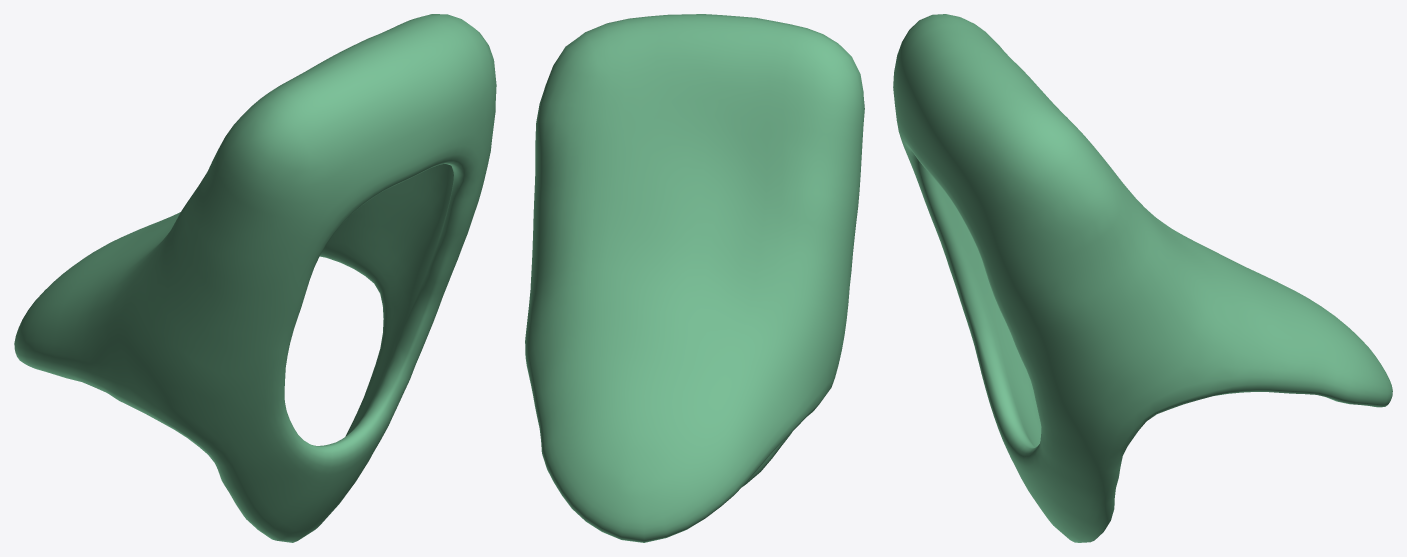
File: BR2_Frame_Classic.001 2.glb
The picture shows the model from 3 angles, left to right: view 1: azimuth 30°, elevation 25°; view 2: azimuth 150°, elevation 25°; view 3: azimuth 270°, elevation 25°; orthographic projection. The views are drawn at different scales.
Visible parts, largest first — view 1: BR2_Frame_Classic.001; view 2: BR2_Frame_Classic.001; view 3: BR2_Frame_Classic.001.
Part boxes in pixels (left/top/right/bottom): BR2_Frame_Classic.001: left=14, top=14, right=496, bottom=542; BR2_Frame_Classic.001: left=525, top=14, right=864, bottom=542; BR2_Frame_Classic.001: left=893, top=14, right=1392, bottom=542.
Bounding box in the file's own units: 0.6314 × 0.9171 × 0.8417.
